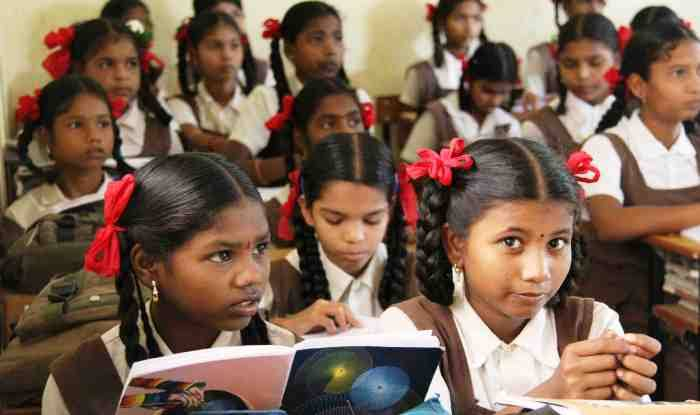student: (115, 162, 293, 329), (434, 144, 593, 325), (291, 140, 396, 269), (25, 71, 128, 171), (620, 5, 700, 126), (282, 72, 386, 154), (63, 14, 145, 109), (268, 2, 353, 89), (556, 11, 631, 101), (171, 8, 250, 93), (456, 42, 525, 114)
